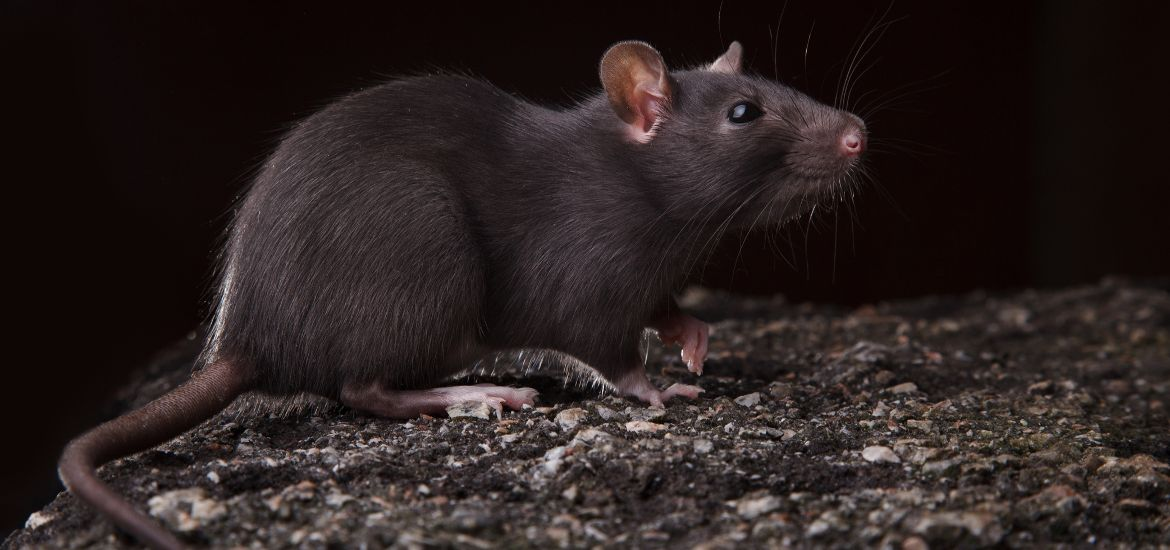rat: (113, 32, 887, 467)
